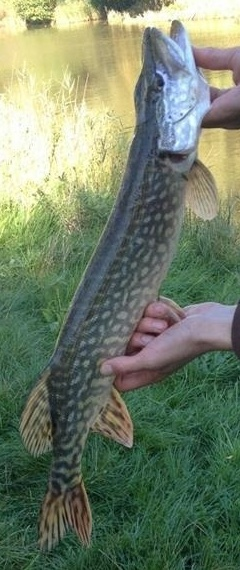Esox lucius: (20, 20, 220, 550)
